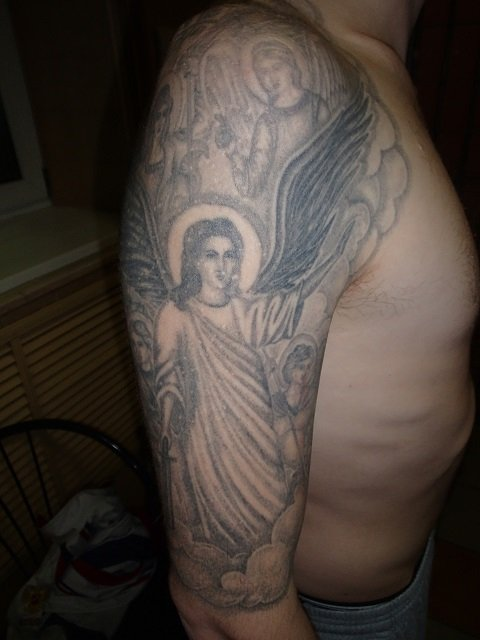tatu1_angel: (127, 86, 367, 603)
